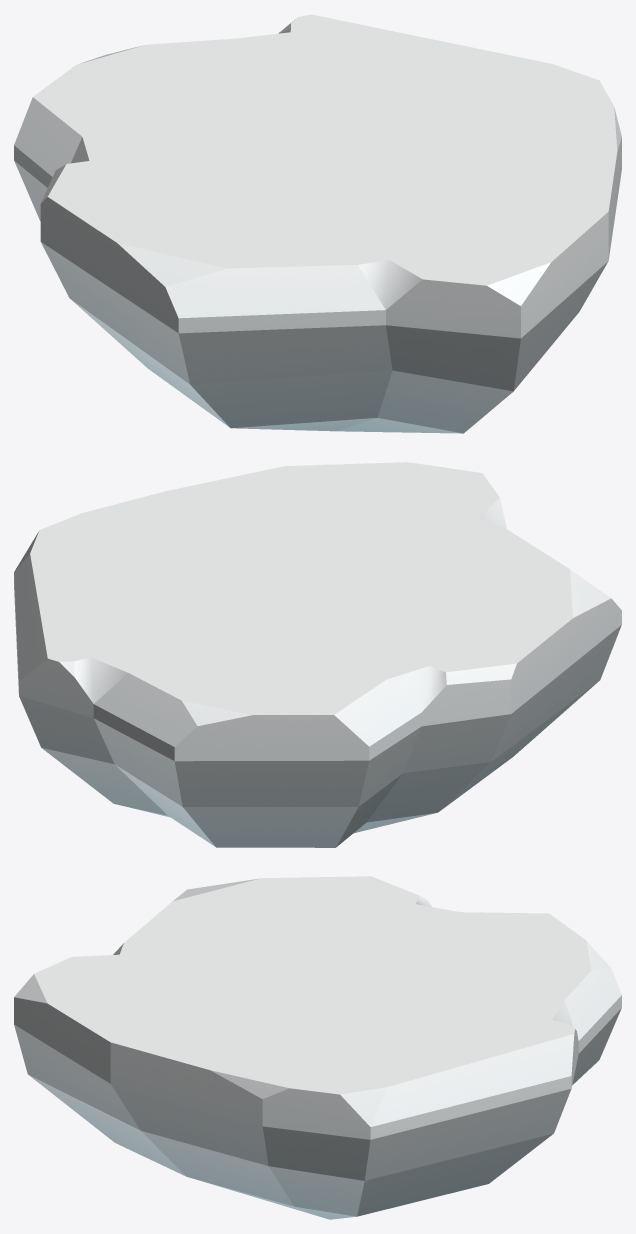
Rendered from ICE_FLAT_GROUND.gltf.
3 renders of one model, top to bottom at view 1: azimuth 30°, elevation 25°; view 2: azimuth 150°, elevation 25°; view 3: azimuth 270°, elevation 25°, orthographic. The views are drawn at different scales.
Visible parts, largest first — view 1: IceFloeLow; view 2: IceFloeLow; view 3: IceFloeLow.
Part boxes in pixels (x1=…): IceFloeLow: x1=14, y1=14, x2=621, y2=433; IceFloeLow: x1=14, y1=462, x2=621, y2=847; IceFloeLow: x1=14, y1=876, x2=621, y2=1219.
Bounding box in the file's own units: 15.04 × 7.43 × 17.38.
Materials: 1 (1 with a texture image).
